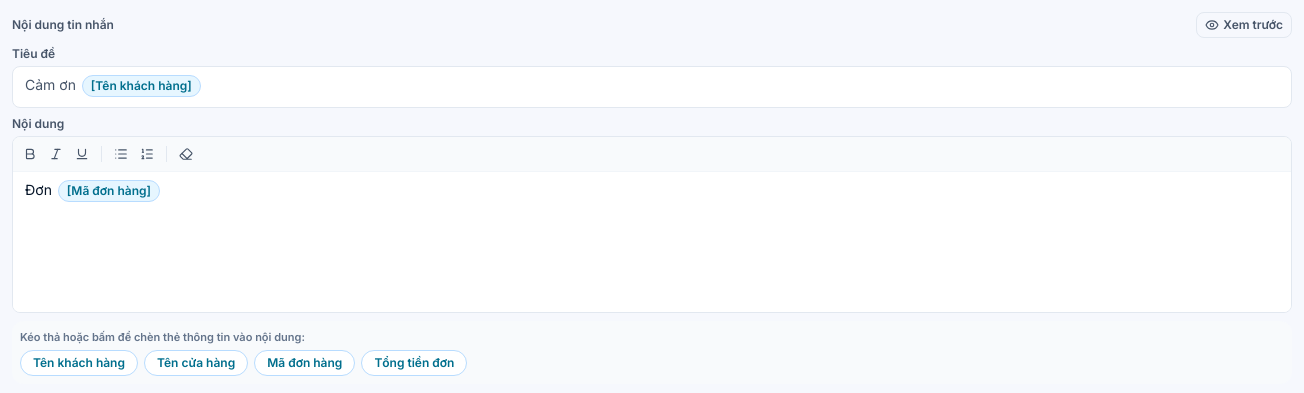
Test: TemplateEditor › xem trước thay biến bằng dữ liệu mẫu
Click the button "Xem trước": (1244, 25) [1196,12,1292,38]
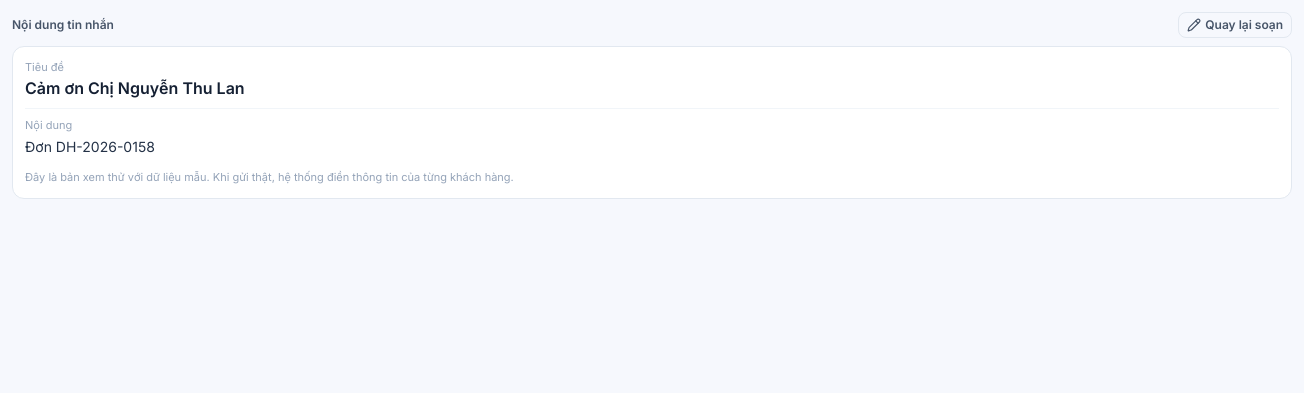
Check: the text "Cảm ơn Chị Nguyễn Thu Lan" is shown, box [25,78,245,98]
Check: the text "Đơn DH-2026-0158" is shown, box [25,138,155,155]
